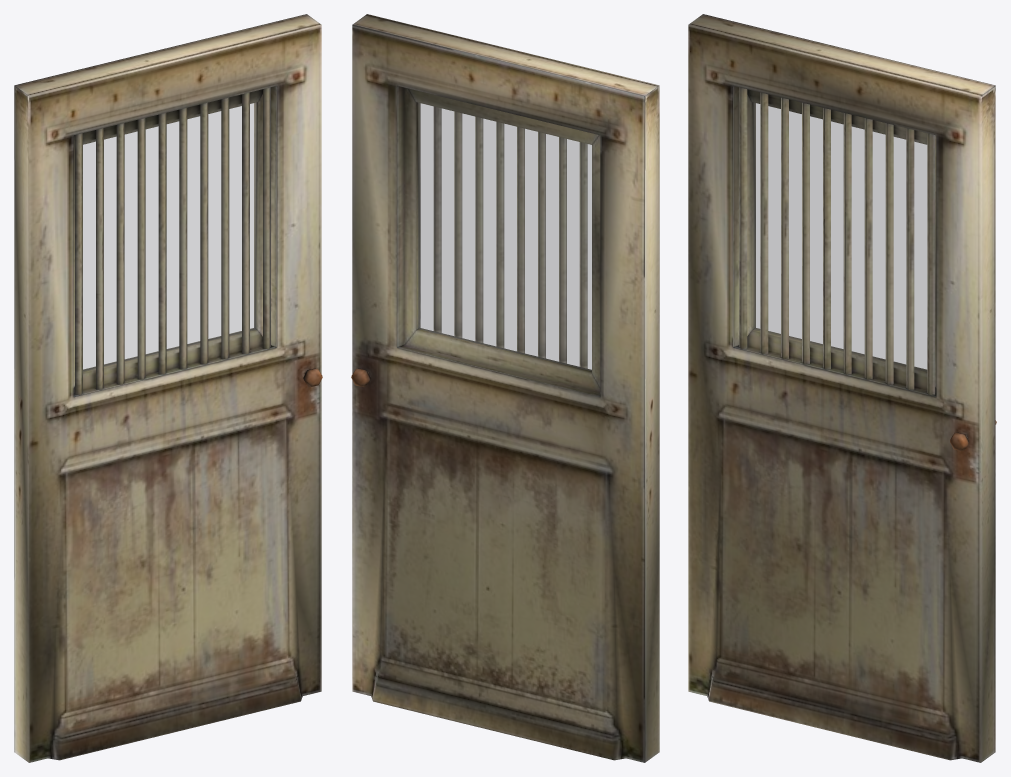
The model's file is ward_door.glb.
The picture shows the model from 3 angles, left to right: view 1: azimuth 30°, elevation 25°; view 2: azimuth 150°, elevation 25°; view 3: azimuth 330°, elevation 25°; orthographic projection.
Visible parts, largest first — view 1: door3_SM; view 2: door3_SM; view 3: door3_SM.
Boxes of the visible parts, box(x1,y1,x2,y2) form: door3_SM: box(14, 14, 322, 762); door3_SM: box(351, 14, 659, 762); door3_SM: box(688, 14, 996, 762).
Bounding box in the file's own units: 1.12 × 2.44 × 0.2229.
2 materials, 1 textured.
